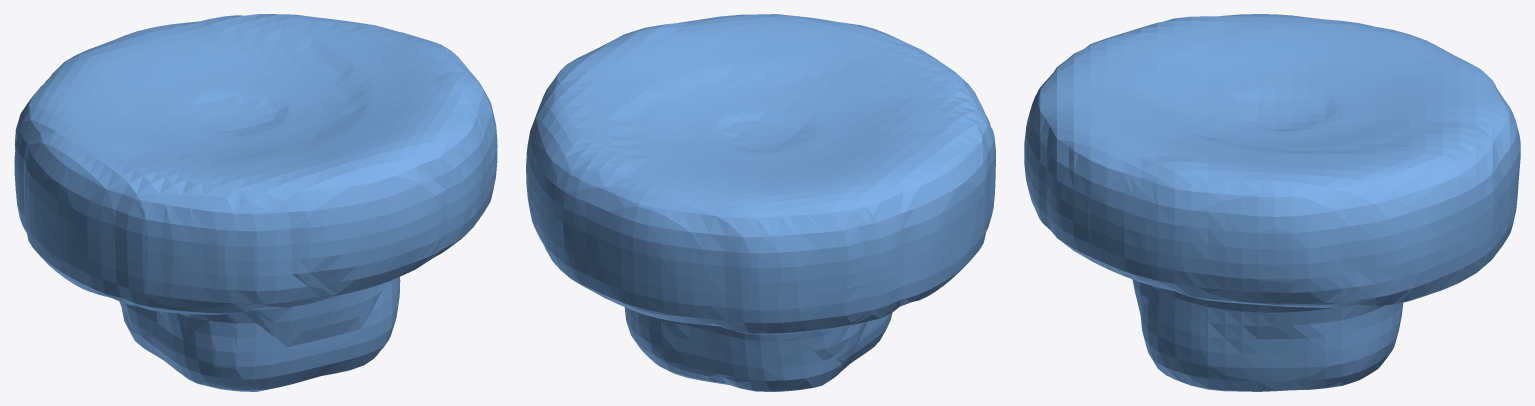
Rendered from water_0006.glb.
The picture shows the model from 3 angles, left to right: view 1: azimuth 30°, elevation 25°; view 2: azimuth 150°, elevation 25°; view 3: azimuth 270°, elevation 25°; orthographic projection. The views are drawn at different scales.
Visible parts, largest first — view 1: Water_0006; view 2: Water_0006; view 3: Water_0006.
Boxes of the visible parts, left/top/right/bottom form: Water_0006: left=14, top=14, right=497, bottom=391; Water_0006: left=526, top=14, right=995, bottom=391; Water_0006: left=1024, top=14, right=1520, bottom=391.
Bounding box in the file's own units: 1.71 × 1.04 × 1.73.
